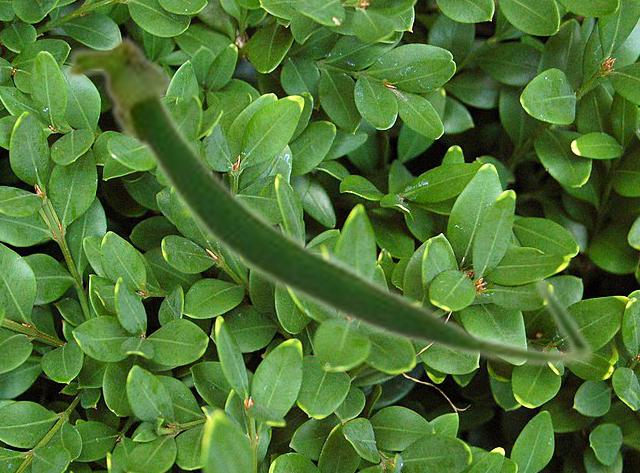french_bean: (60, 31, 595, 369)
